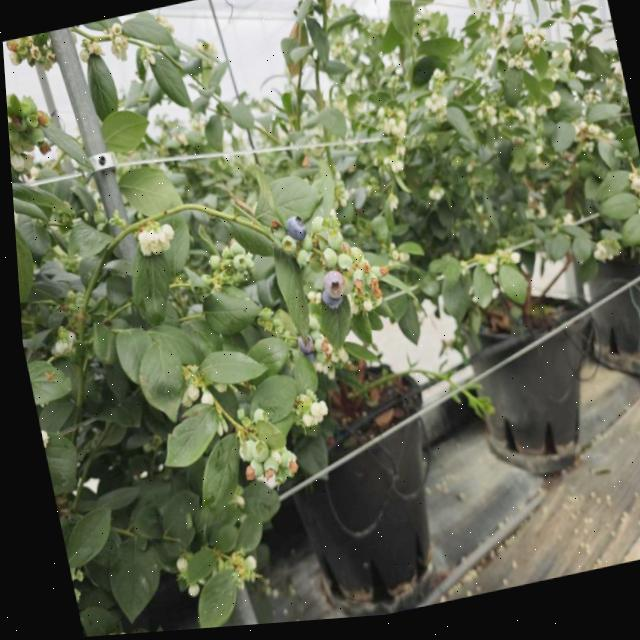RipeBlueBerry: (281, 218, 305, 248)
Semi-RipeBlueBerry: (317, 272, 345, 307)
UnripeBlueBerry: (242, 441, 264, 468)
